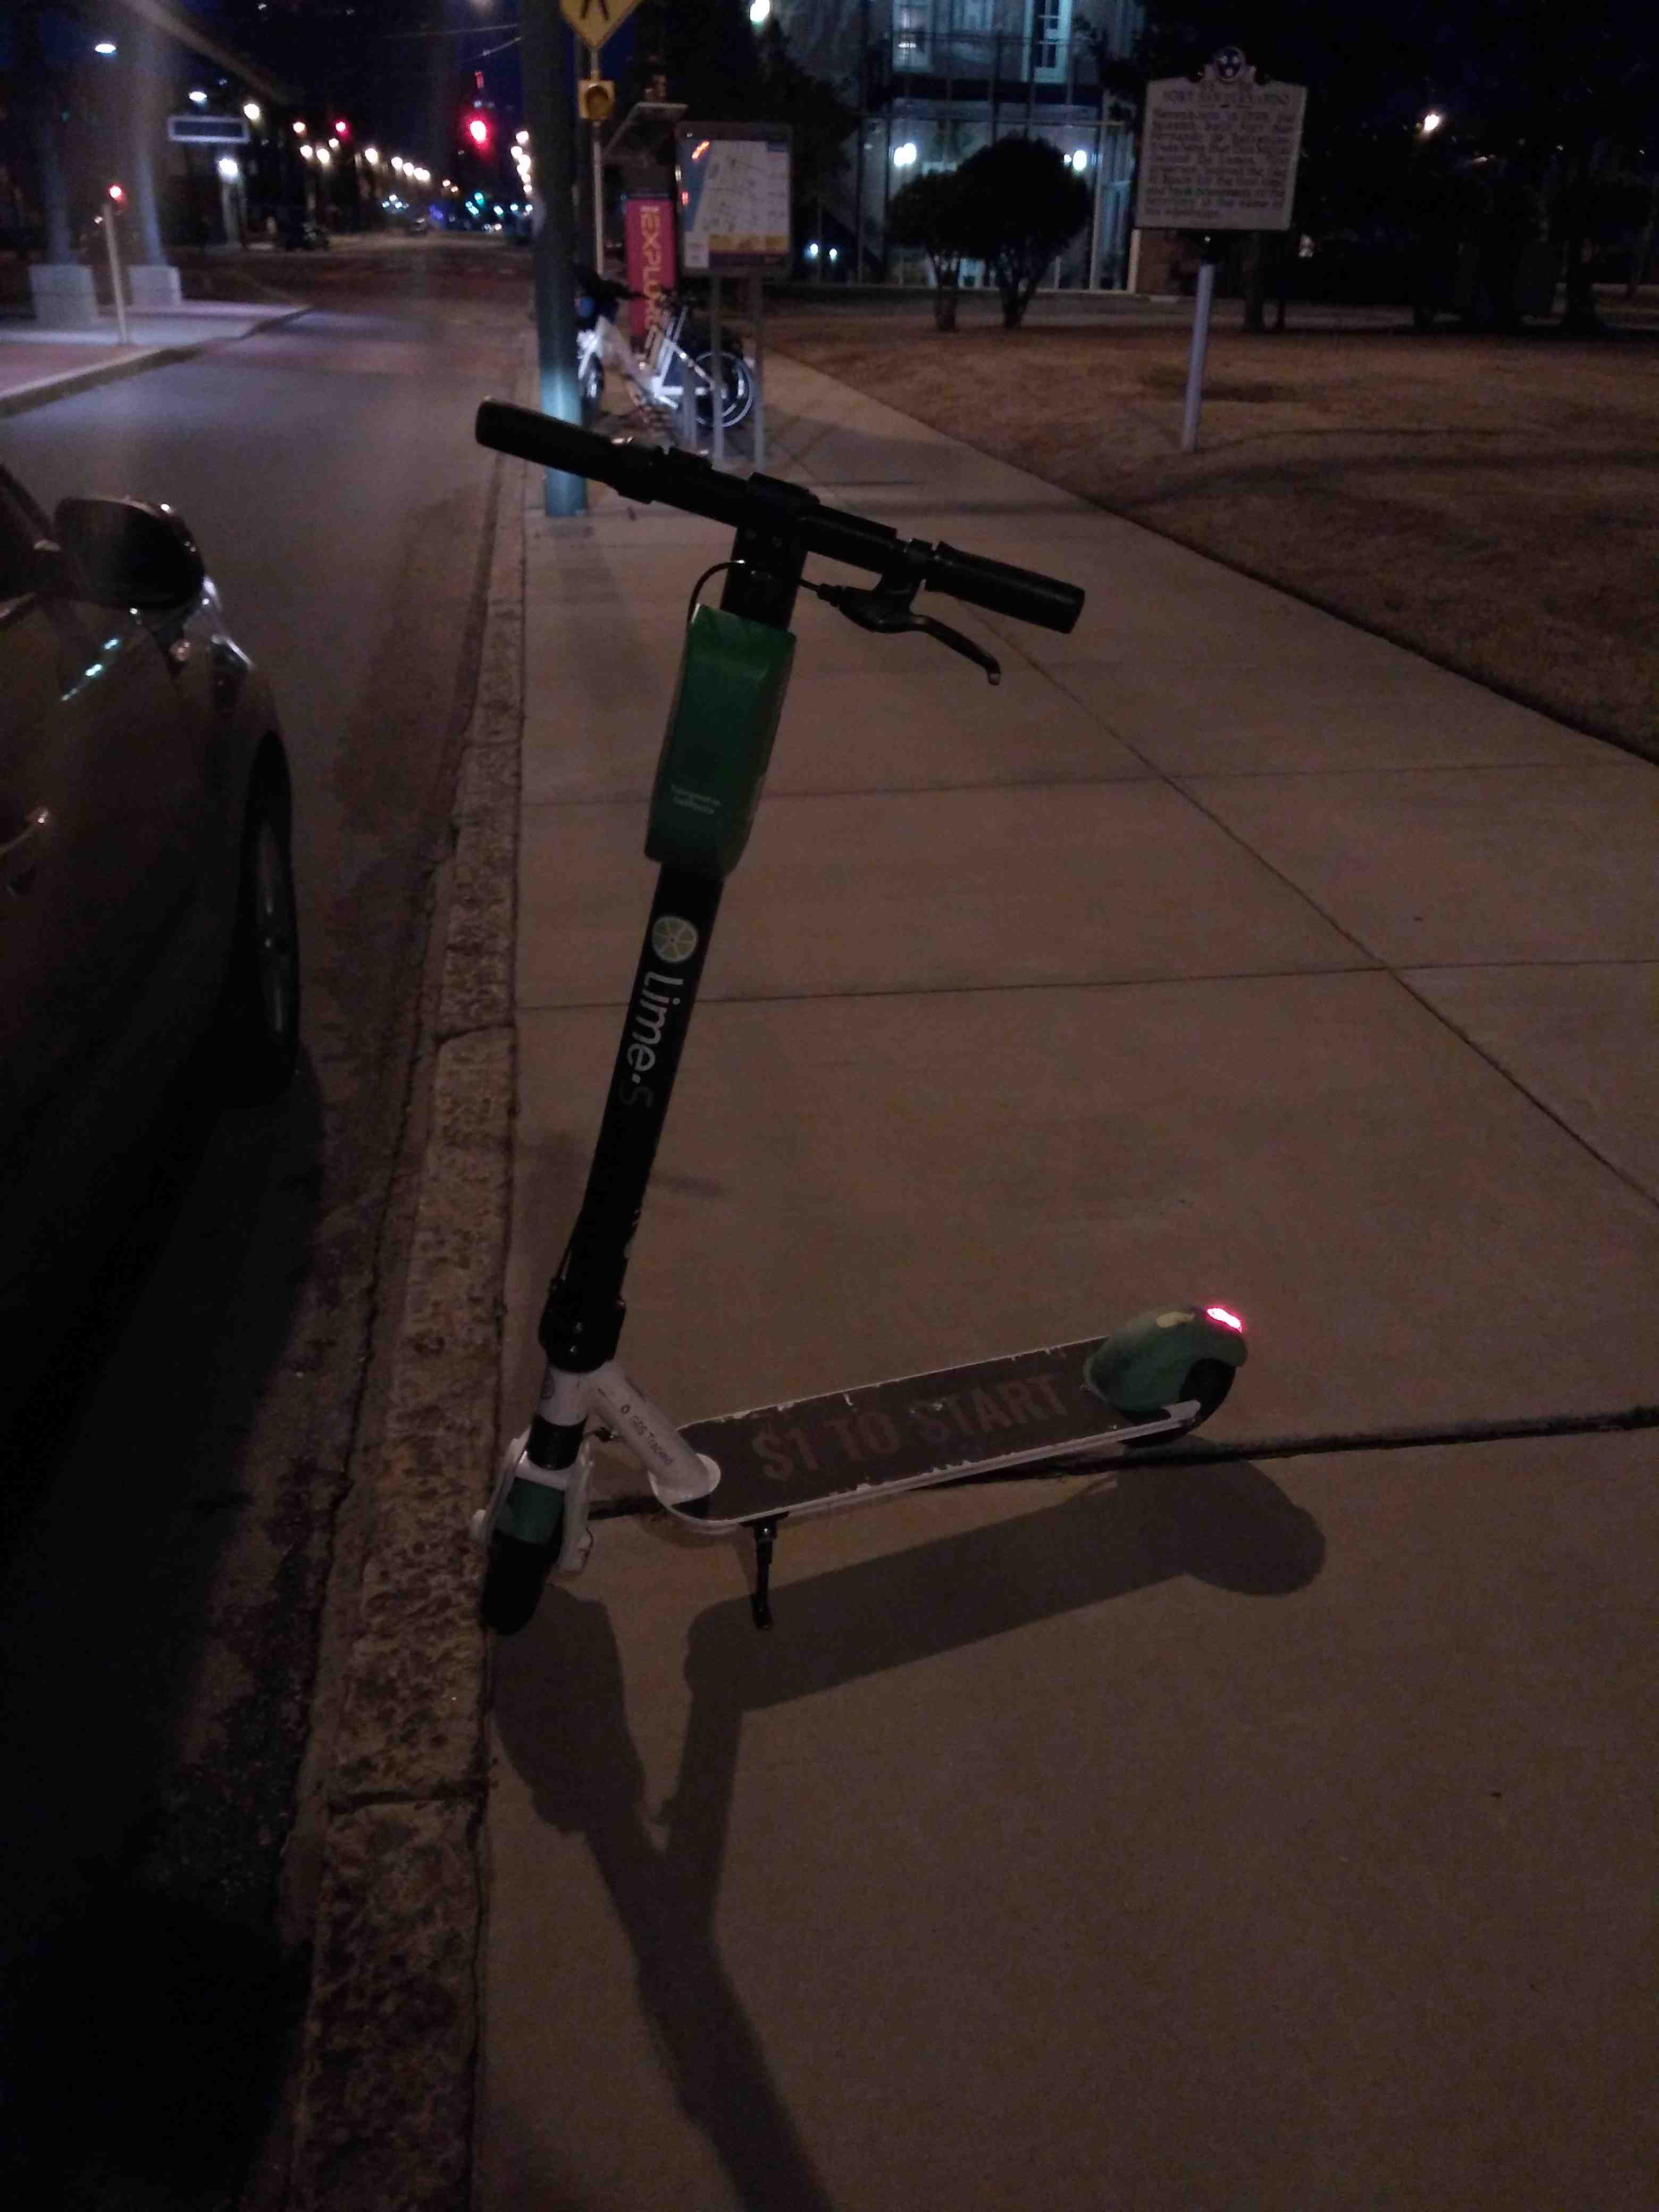too close: (340, 1397, 667, 1686)
